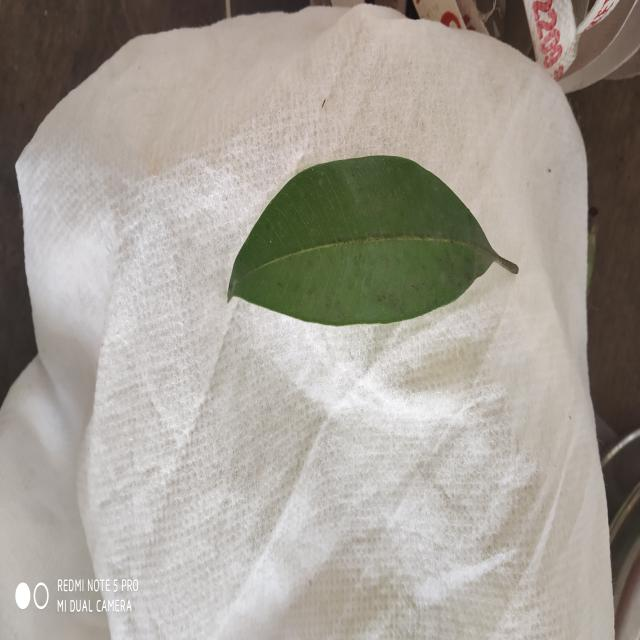sapota: (228, 156, 519, 327)
